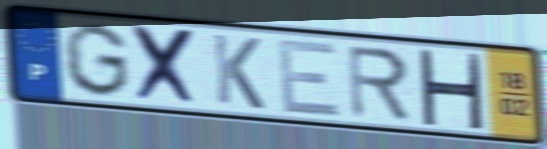E: (274, 37, 344, 120)
G: (60, 21, 133, 100)
H: (415, 46, 486, 133)
K: (209, 30, 267, 113)
R: (344, 43, 414, 123)
X: (129, 22, 202, 109)
